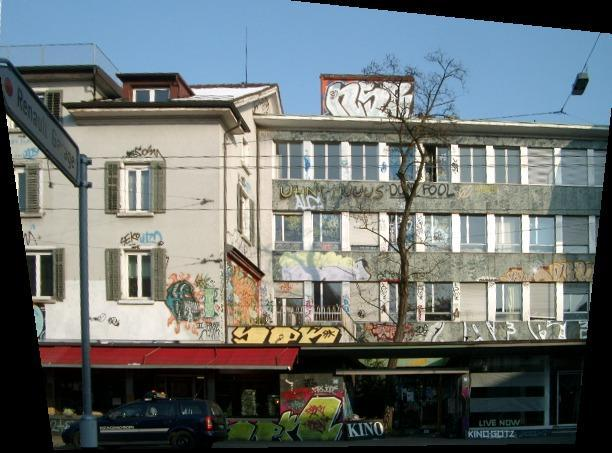window: (123, 251, 154, 301), (7, 167, 38, 217), (121, 163, 151, 213), (24, 251, 54, 301), (276, 281, 305, 328), (274, 212, 306, 253), (348, 212, 380, 253), (310, 212, 342, 252), (530, 284, 559, 324), (350, 143, 379, 182), (425, 213, 453, 253), (460, 213, 488, 253), (494, 215, 522, 255), (529, 215, 557, 255), (562, 215, 590, 255), (426, 283, 454, 323), (390, 282, 418, 322), (461, 284, 489, 324), (497, 284, 525, 324), (564, 283, 592, 323), (352, 282, 380, 322), (314, 282, 342, 322), (389, 213, 416, 254), (275, 141, 304, 179), (314, 142, 343, 180), (389, 144, 418, 182), (423, 145, 452, 183), (460, 145, 487, 184), (563, 148, 590, 187), (495, 147, 522, 185), (528, 148, 555, 186), (131, 86, 171, 103)
